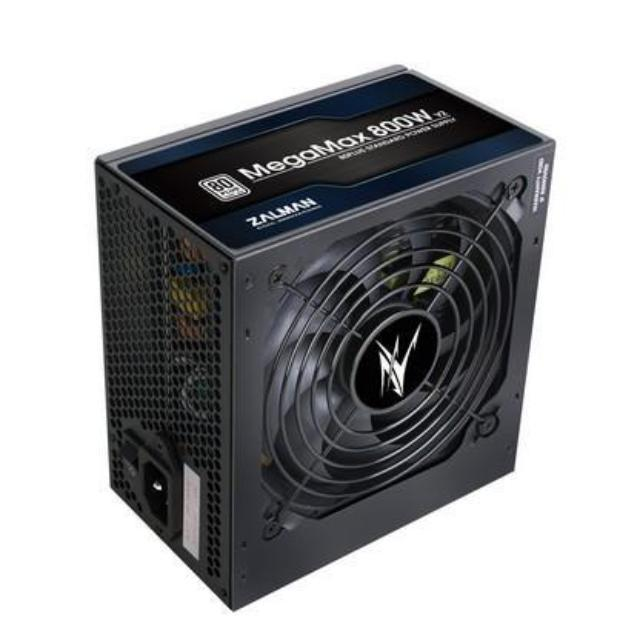PSU: (91, 52, 560, 626)
